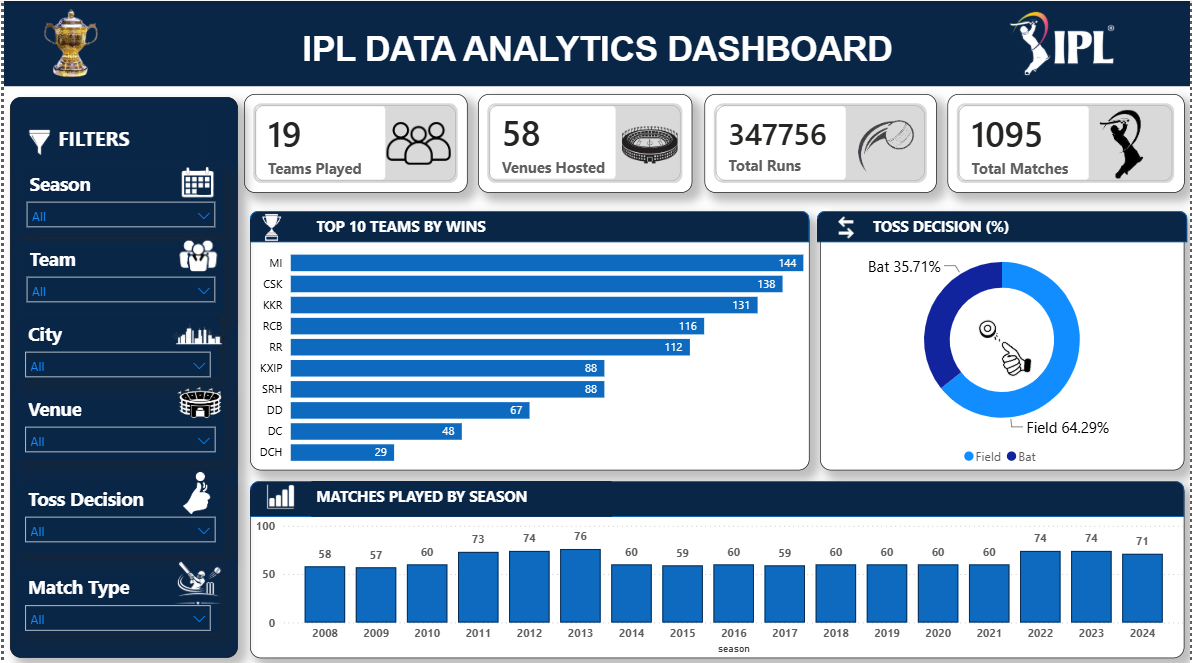

What the dashboard file says about the page in this screenshot:
{"tool":"powerbi","page":{"name":"Page 1","canvas":[1280,720],"ordinal":0},"visuals":[{"type":"cardVisual","fields":{"Data":["matches_clean.Total Teams"]},"box":[259.1,100.4,241.3,106.9],"z":0},{"type":"cardVisual","fields":{"Data":["matches_clean.Total Venues"]},"box":[511.7,100.4,231.5,106.9],"z":1000},{"type":"cardVisual","fields":{"Data":["matches_clean.Total Runs"]},"box":[756.2,100.4,251,106.9],"z":2000},{"type":"cardVisual","fields":{"Data":["matches_clean.Total Matches"]},"box":[1018.5,100.4,255.8,106.9],"z":3000},{"type":"shape","box":[0,0,1280.8,92.3],"z":4000},{"type":"textbox","box":[0,24.3,1280.8,53.4],"z":5000},{"type":"image","box":[0,0,142.5,92.3],"z":6000},{"type":"image","box":[1005.5,9.7,275.3,72.9],"z":7000},{"type":"image","box":[898.7,106.9,106.9,93.9],"z":8000},{"type":"image","box":[1146.4,105.2,119.8,98.8],"z":9000},{"type":"image","box":[667.1,116.6,59.9,77.7],"z":10000},{"type":"image","box":[412.9,113.3,69.6,81],"z":11000},{"type":"clusteredBarChart","title":"Top Teams by Wins","fields":{"Category":["matches_clean.winner - Sort"],"Y":["CountNonNull(matches_clean.winner)"]},"box":[265.6,226.7,604,280.1],"z":12000},{"type":"shape","box":[265.6,226.7,604,34],"z":13000},{"type":"textbox","box":[331.9,226.7,466.3,48.6],"z":14000},{"type":"donutChart","fields":{"Category":["matches_clean.toss_decision"],"Y":["CountNonNull(matches_clean.id)"]},"box":[880.9,226.7,393.5,280.1],"z":15000},{"type":"shape","box":[877.6,226.7,399.9,34],"z":16000},{"type":"textbox","box":[932.7,226.7,174.9,48.6],"z":17000},{"type":"columnChart","fields":{"Category":["matches_clean.season"],"Y":["CountNonNull(matches_clean.id)"]},"box":[265.6,518.2,1008.8,191.1],"z":18000},{"type":"shape","box":[265.6,518.2,1008.8,38.9],"z":19000},{"type":"textbox","box":[331.9,518.2,323.8,38.9],"z":20000},{"type":"shape","box":[6.5,103.6,246.1,605.6],"z":21000},{"type":"textbox","box":[53.4,127.9,166.8,50.2],"z":22000},{"type":"slicer","fields":{"Values":["matches_clean.season"]},"box":[14.6,178.1,223.5,72.9],"z":23000},{"type":"slicer","fields":{"Values":["matches_clean.winner - Sort"]},"box":[14.6,259.1,223.5,81],"z":24000},{"type":"slicer","fields":{"Values":["matches_clean.venue"]},"box":[13,421,225.1,74.5],"z":25000},{"type":"image","box":[184.6,168.4,48.6,58.3],"z":26000},{"type":"image","box":[179.7,244.5,59.9,61.5],"z":27000},{"type":"image","box":[144.1,393.5,132.8,85.8],"z":28000},{"type":"image","box":[842,223.5,134.4,42.1],"z":29000},{"type":"image","box":[252.6,503.6,92.3,68],"z":30000},{"type":"image","box":[0,134.4,76.1,35.6],"z":31000},{"type":"image","box":[252.6,223.5,72.9,42.1],"z":32000},{"type":"image","box":[1042.8,340,76.1,69.6],"z":33000},{"type":"slicer","fields":{"Values":["matches_clean.toss_decision"]},"box":[13,518.2,225.1,77.7],"z":34000},{"type":"slicer","fields":{"Values":["matches_clean.city"]},"box":[13,340,220.2,69.6],"z":35000},{"type":"image","box":[131.2,285,158.7,149],"z":36000},{"type":"image","box":[168.4,495.5,79.3,71.2],"z":37000},{"type":"slicer","fields":{"Values":["matches_clean.match_type"]},"box":[13,613.7,220.2,69.6],"z":38000},{"type":"image","box":[149,595.9,119.8,69.6],"z":38001}]}

Visuals, with their boxes in screenshot pixels (x1, y1, x2, y2), scaled from the page's 1280x720 canvas onto the 1192x663 screenshot:
cardVisual - matches_clean.Total Teams: 241/92/466/191
cardVisual - matches_clean.Total Venues: 477/92/692/191
cardVisual - matches_clean.Total Runs: 704/92/938/191
cardVisual - matches_clean.Total Matches: 948/92/1187/191
shape: 0/0/1191/85
textbox: 0/22/1191/72
image: 0/0/133/85
image: 936/9/1191/76
image: 837/98/936/185
image: 1068/97/1179/188
image: 621/107/677/179
image: 385/104/449/179
"Top Teams by Wins" clusteredBarChart: 247/209/810/467
shape: 247/209/810/240
textbox: 309/209/743/254
donutChart - matches_clean.toss_decision x CountNonNull(matches_clean.id): 820/209/1187/467
shape: 817/209/1190/240
textbox: 869/209/1031/254
columnChart - matches_clean.season x CountNonNull(matches_clean.id): 247/477/1187/653
shape: 247/477/1187/513
textbox: 309/477/611/513
shape: 6/95/235/653
textbox: 50/118/205/164
slicer - matches_clean.season: 14/164/222/231
slicer - matches_clean.winner - Sort: 14/239/222/313
slicer - matches_clean.venue: 12/388/222/456
image: 172/155/217/209
image: 167/225/223/282
image: 134/362/258/441
image: 784/206/909/245
image: 235/464/321/526
image: 0/124/71/157
image: 235/206/303/245
image: 971/313/1042/377
slicer - matches_clean.toss_decision: 12/477/222/549
slicer - matches_clean.city: 12/313/217/377
image: 122/262/270/400
image: 157/456/231/522
slicer - matches_clean.match_type: 12/565/217/629
image: 139/549/250/613
